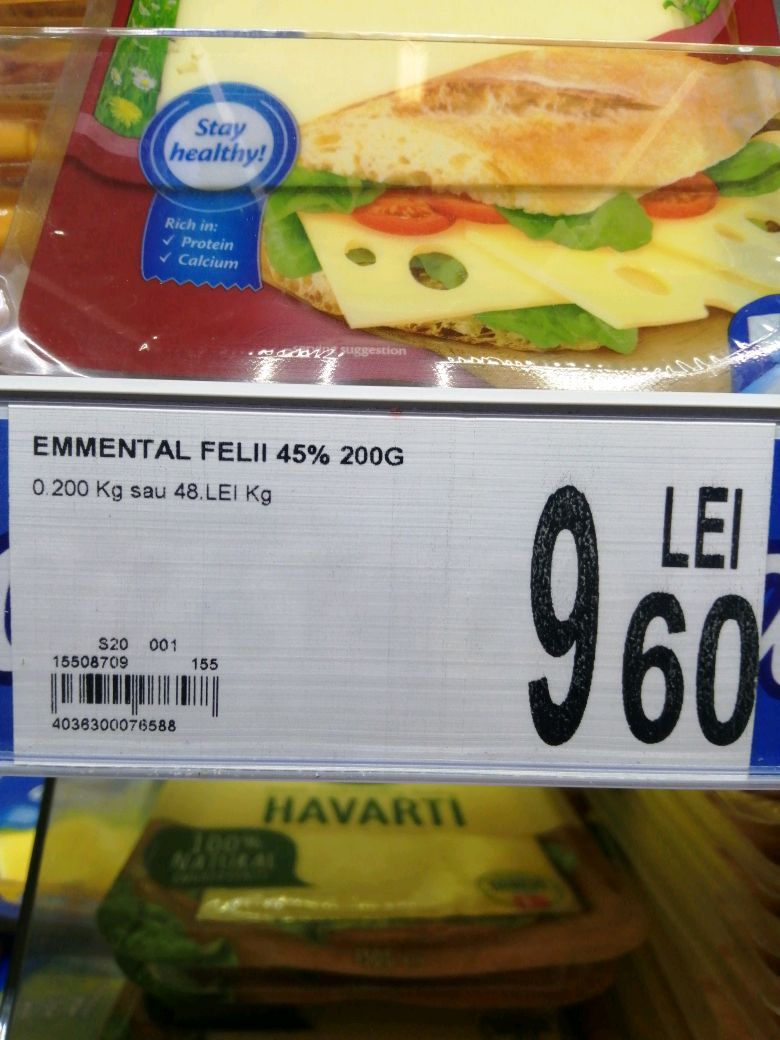price_bani: (622, 582, 765, 759)
price_lei: (500, 477, 611, 755)
price_tag: (2, 400, 773, 785)
product_id: (42, 712, 187, 738)
product_name: (19, 424, 435, 474)
